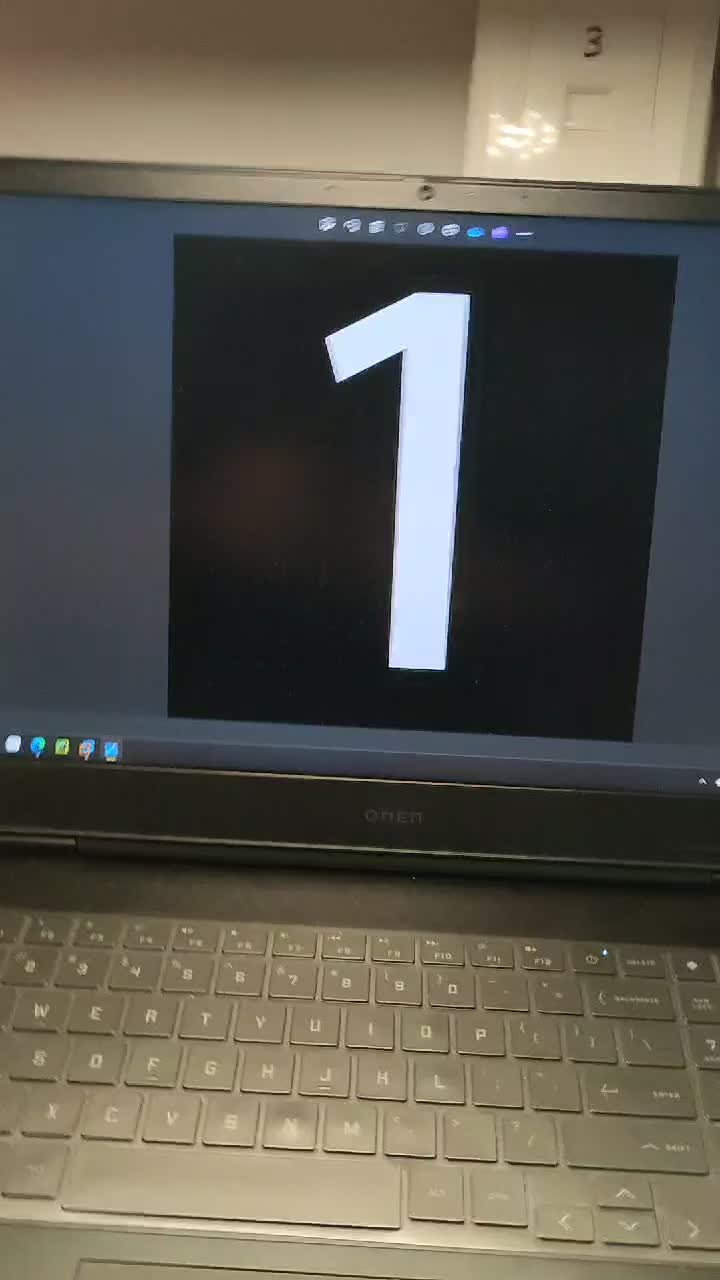one: (268, 241, 578, 691)
